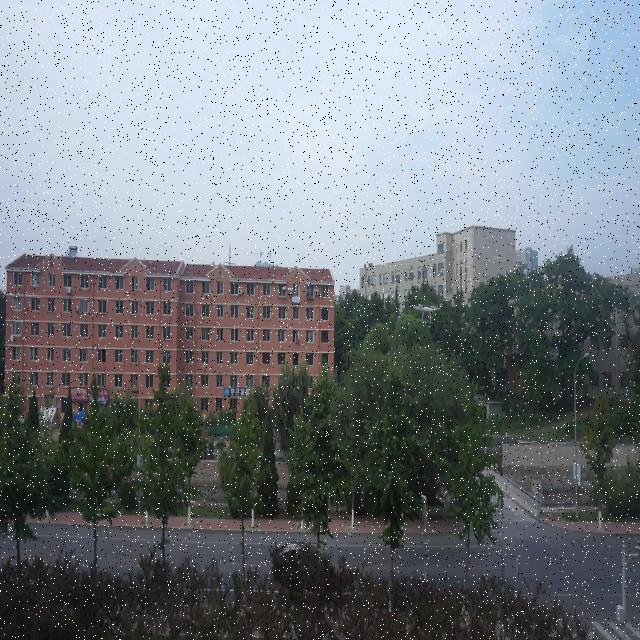UAV: (413, 304, 441, 325)
